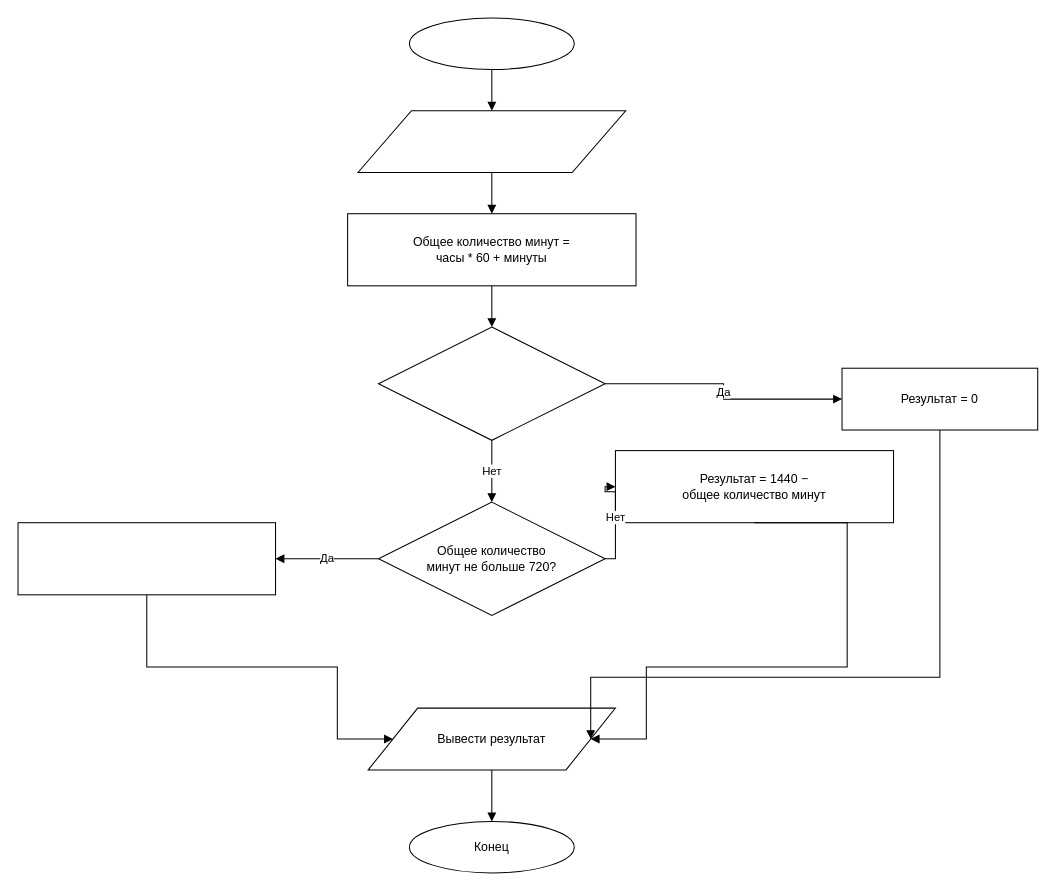
Some shapes in this 1056 by 891 pixel diagram are drawn without their labels. The box of each missing label's shape, as (x1, y1, x2, y2) in pixels:
Ввести часы и минуты: (357, 110, 626, 173)
Общее количество минут равно 0?: (377, 326, 605, 440)
Результат = 720 − общее количество минут: (17, 522, 276, 595)
